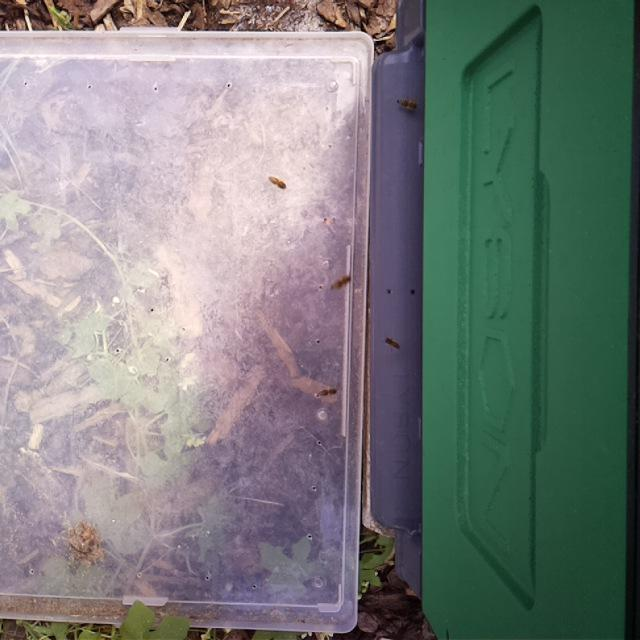worker-bee: (375, 332, 409, 355), (327, 270, 356, 295), (393, 95, 422, 119), (313, 386, 342, 405), (265, 174, 292, 192)
